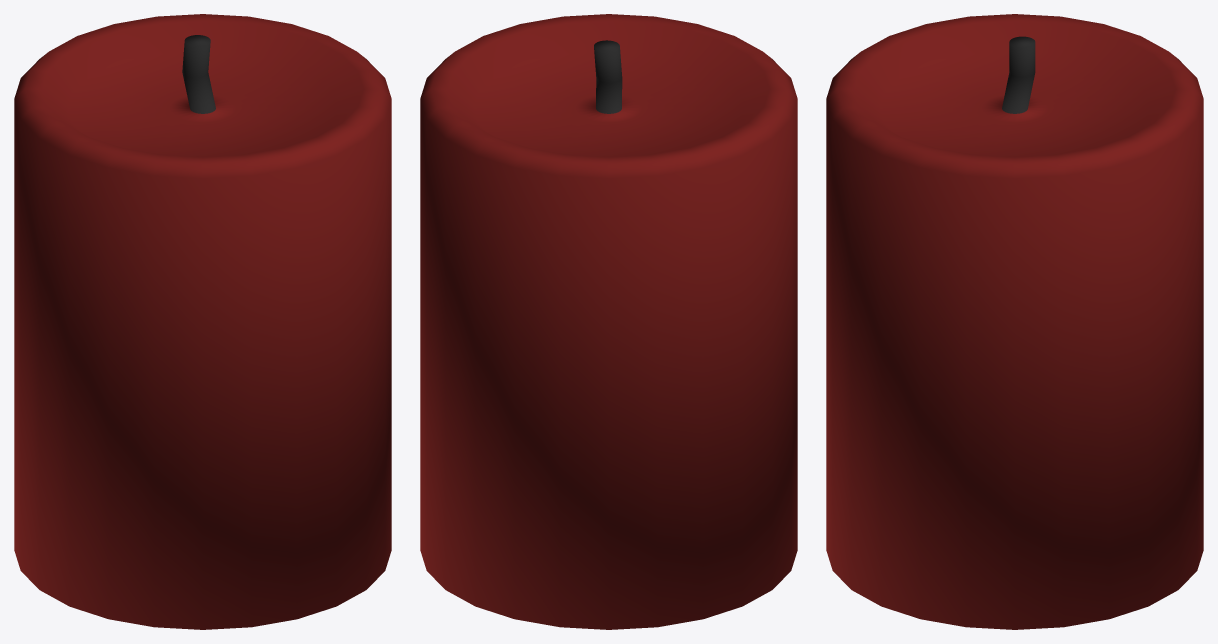
The model's file is candle.fbx.
3 renders of one model, left to right at view 1: azimuth 30°, elevation 25°; view 2: azimuth 150°, elevation 25°; view 3: azimuth 270°, elevation 25°, orthographic.
Parts seen in each view (by area): view 1: Candle; view 2: Candle; view 3: Candle.
Part boxes in pixels (x1,y1,x2,y2): Candle: [14, 14, 391, 629]; Candle: [420, 14, 797, 629]; Candle: [826, 14, 1203, 629].
Size of the model in its own units: 16.21 by 16.21 by 24.05.
